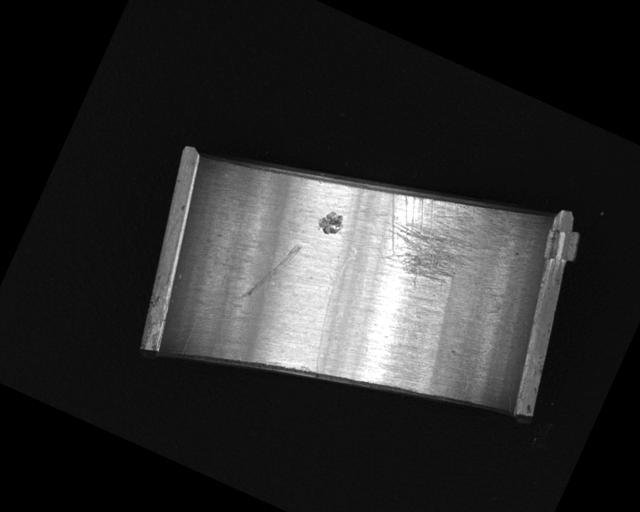bruise: (313, 207, 346, 239)
nick: (295, 247, 369, 374), (239, 231, 302, 313)
scratch: (360, 163, 513, 311)
